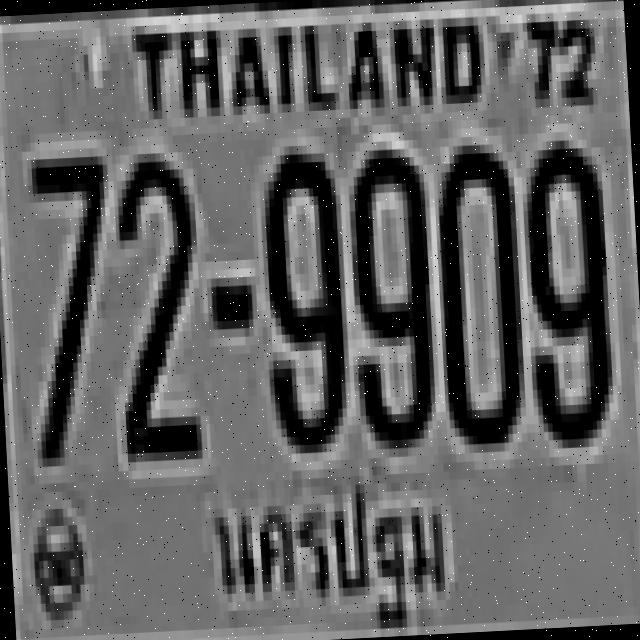0: (431, 136, 522, 438)
2: (106, 143, 202, 454)
7: (24, 148, 116, 458)
9: (520, 130, 610, 441), (342, 140, 433, 442), (255, 144, 346, 446)
NakhonPathom: (205, 470, 460, 640)
